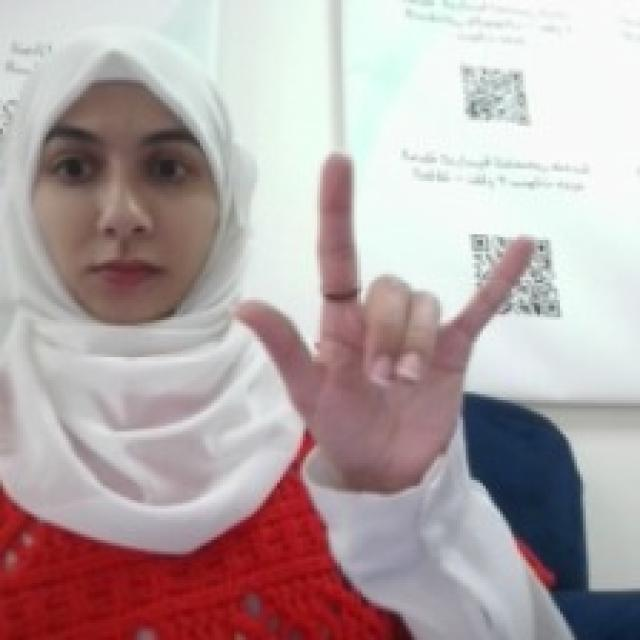love: (228, 146, 543, 491)
